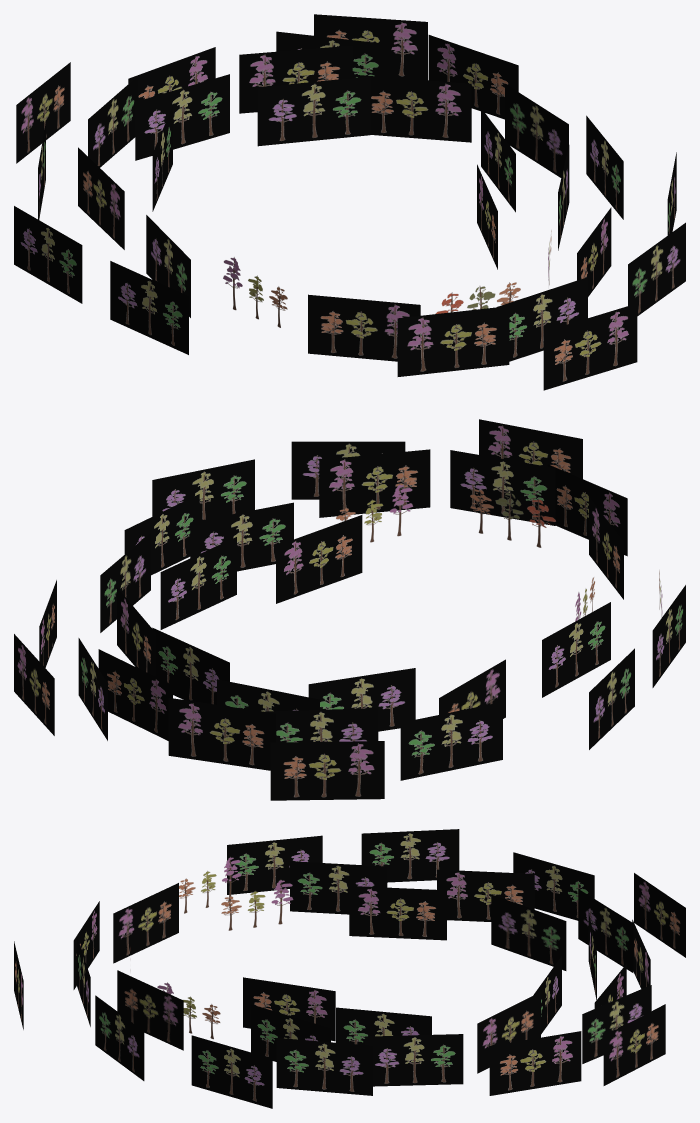
The model's file is arvorePNG1.glb.
3 views of the same model, one above another, from view 1: azimuth 30°, elevation 25°; view 2: azimuth 150°, elevation 25°; view 3: azimuth 270°, elevation 25° (orthographic). The views are drawn at different scales.
Visible parts, largest first — view 1: 4-removebg-preview (2).008; view 2: 4-removebg-preview (2).008; view 3: 4-removebg-preview (2).008.
Boxes of the visible parts, x1,y1,x2,y2 form: 4-removebg-preview (2).008: [14, 14, 685, 390]; 4-removebg-preview (2).008: [14, 419, 685, 800]; 4-removebg-preview (2).008: [14, 829, 685, 1108].
Bounding box in the file's own units: 843 × 102 × 1043.
Materials: 4 (4 with a texture image).
